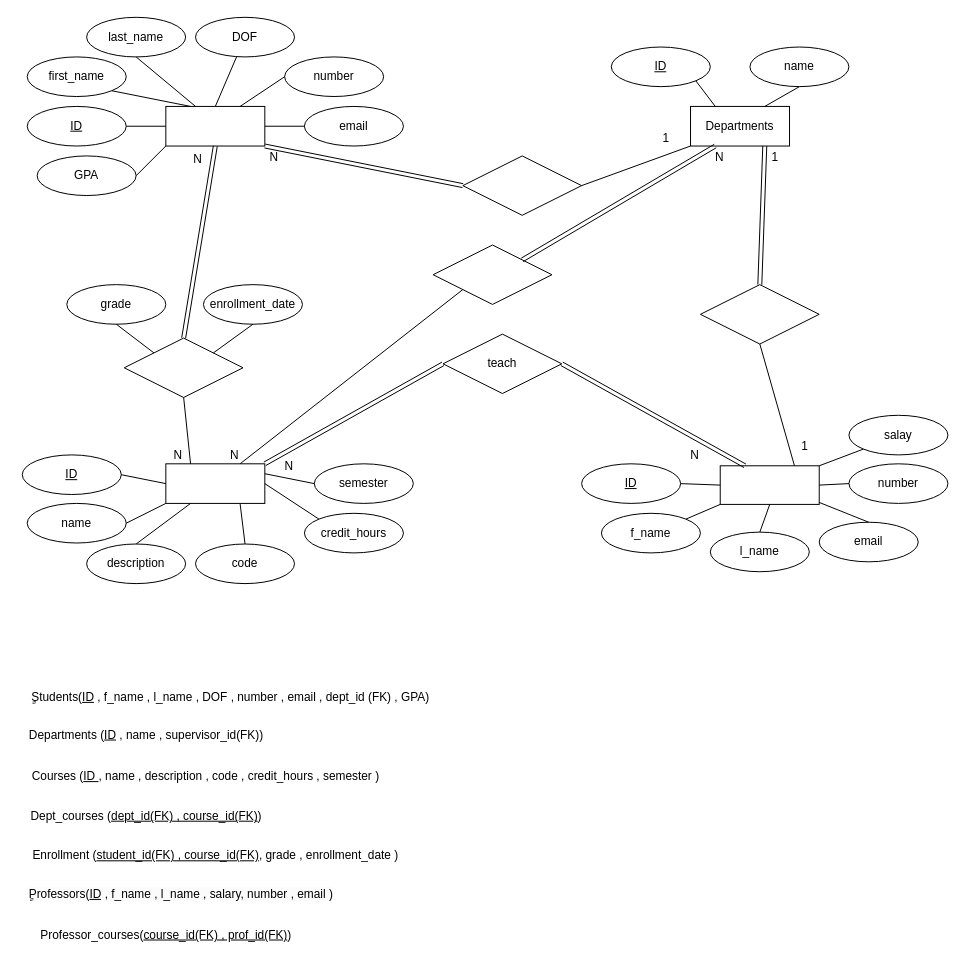
Some shapes in this 965 by 967 pixel diagram are drawn without their labels. Each missing label, with the centre of its shape:
"Courses" belongs at [215,483].
"enrolled" belongs at [183,367].
"join" belongs at [522,185].
"offer" belongs at [492,274].
"Professor" belongs at [769,484].
"Students" belongs at [215,125].
"supervise" belongs at [759,314].
